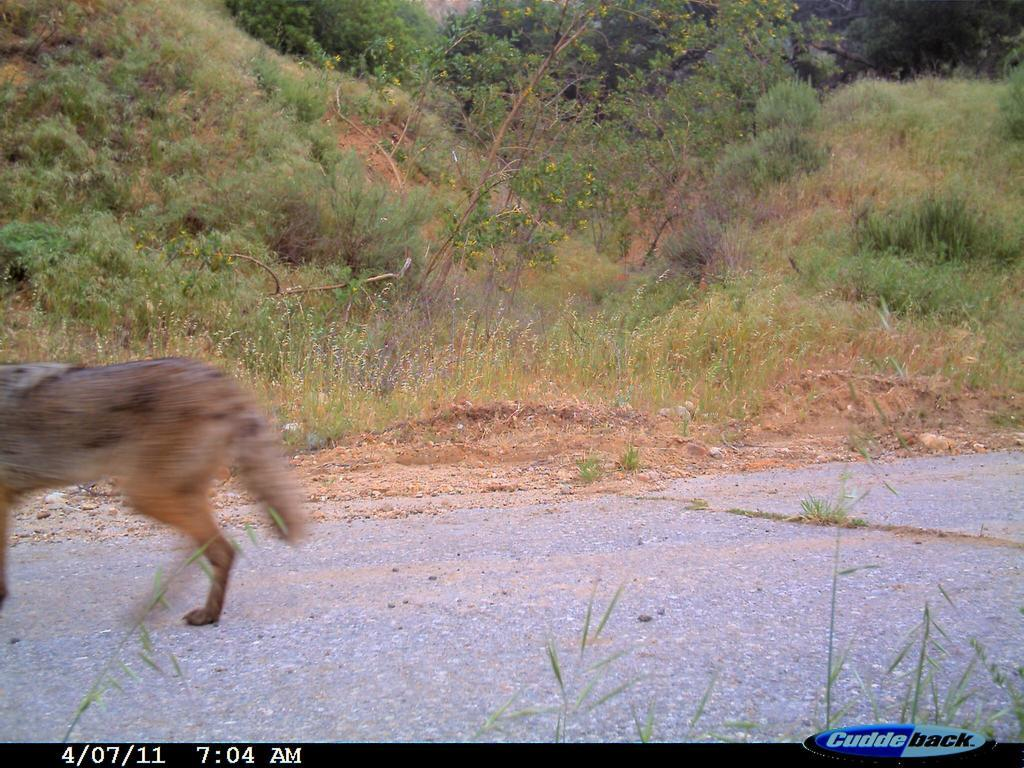coyote: (1, 349, 318, 642)
